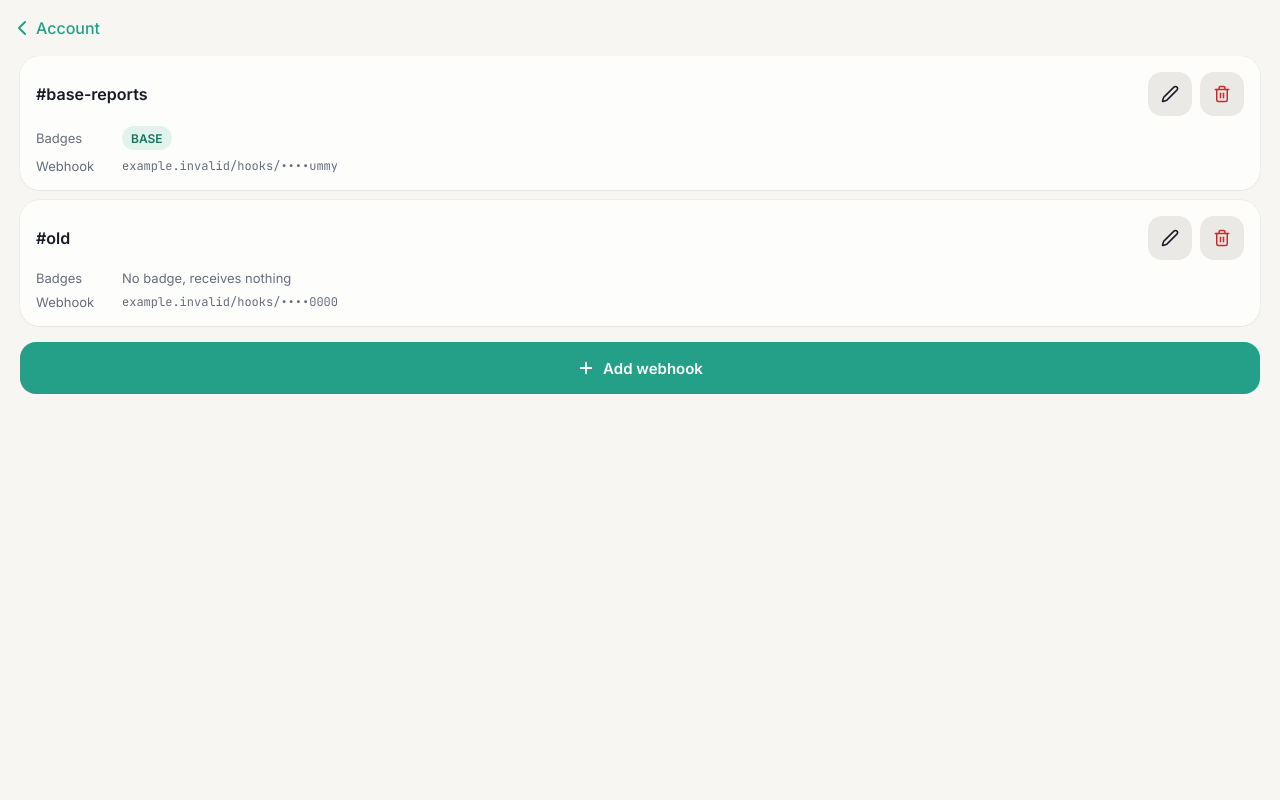
Test: the webhook sheet below md › keeps the sheet open on a refusal, with the server's words inside it
The width and height of the screenshot is (1280, 800).
Expected: the text "#base-reports" is shown, [36,84,148,104]
Step 1. Click the button "Add webhook" → [640, 368], box [20,342,1260,394]
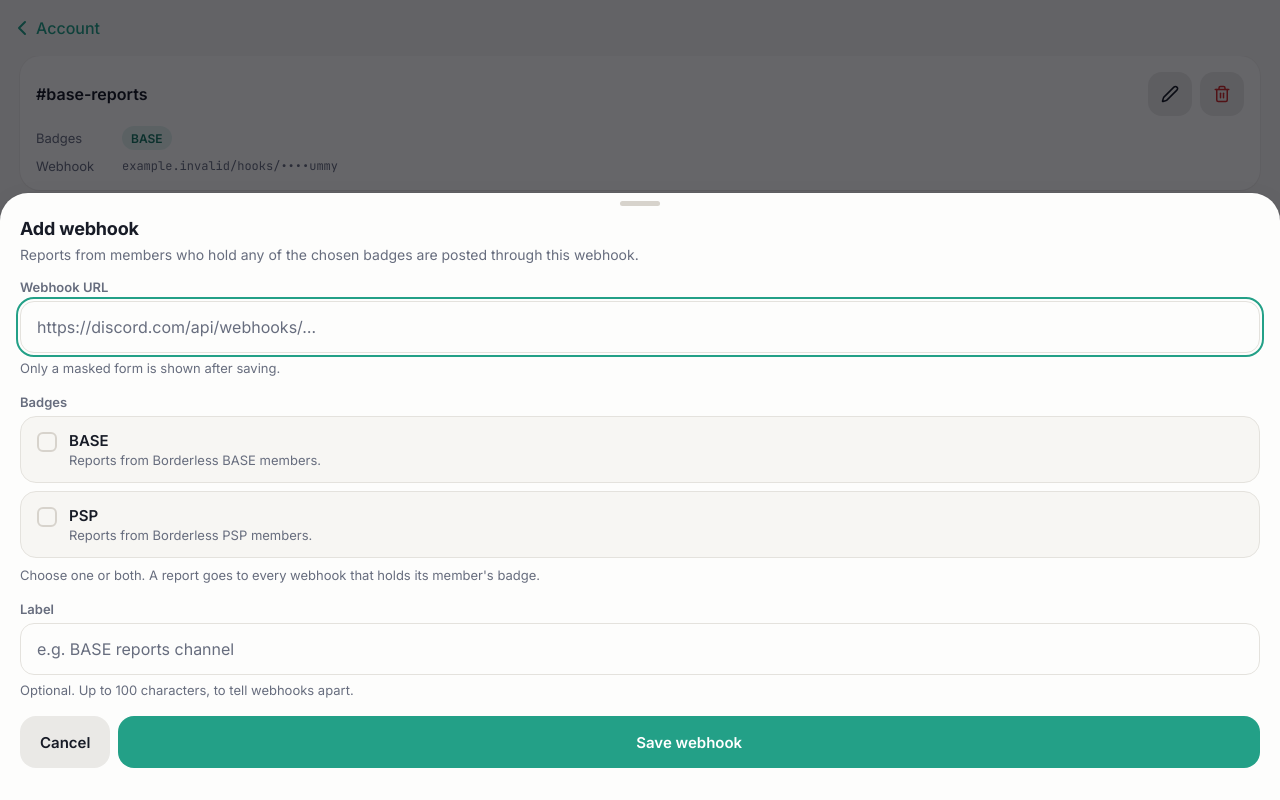
Step 2. Type "https://discord.com/api/webhooks/000000000000000000/e2e-dummy-token-not-real" into the field labelled "Webhook URL" → [640, 328], box [20,302,1260,354]
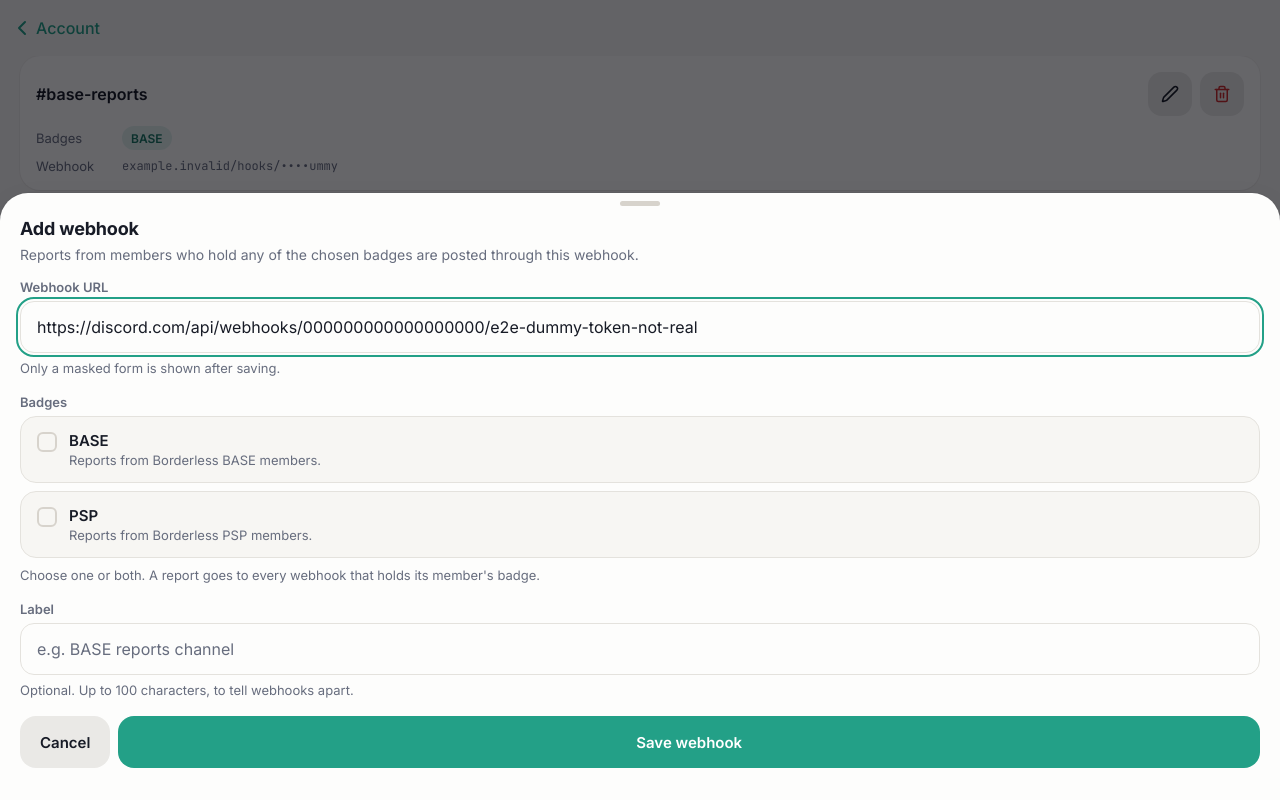
Step 3. Click the checkbox labelled "PSP" → [191, 535], box [20,491,1260,558]
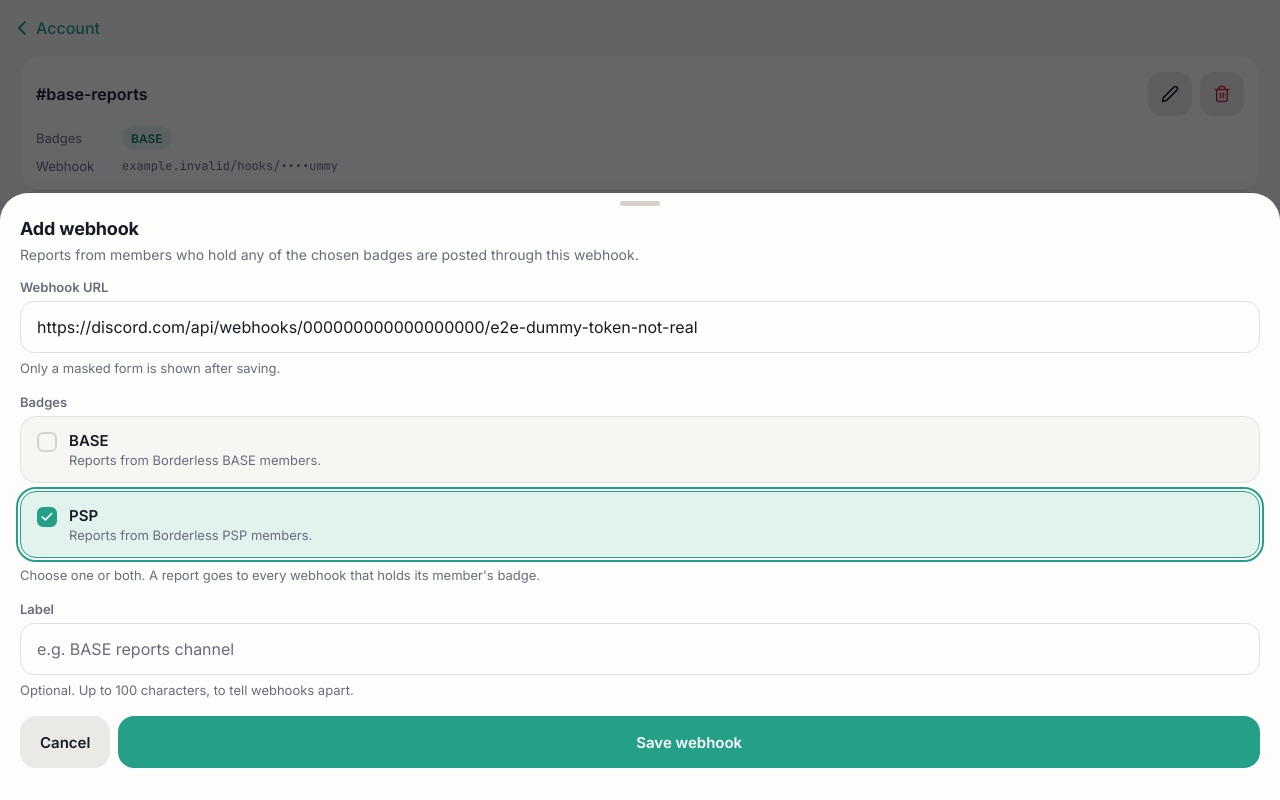
Step 4. Click the button "Save webhook" → [689, 742], box [118,716,1260,768]
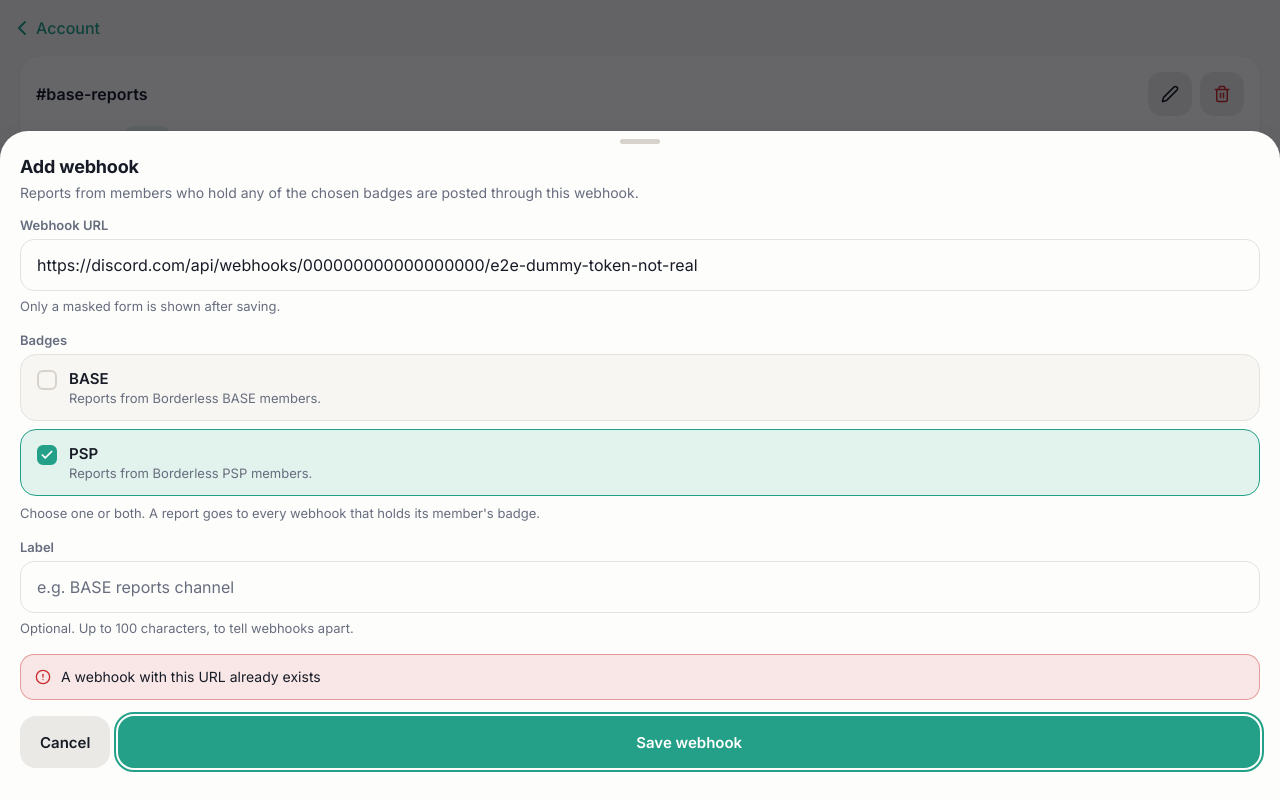
Expected: the dialog "Add webhook" is shown
Expected: the message reads "A webhook with this URL already exists", [61,668,321,685]
